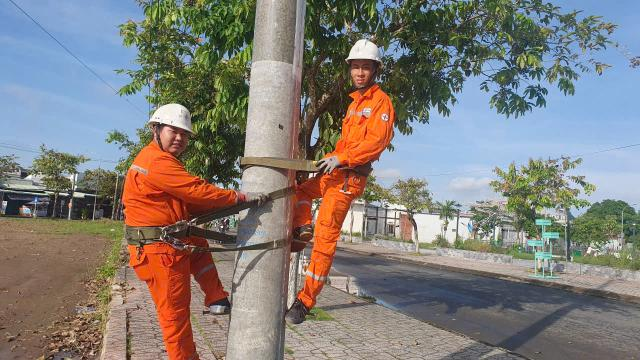gloves: (312, 148, 346, 178), (240, 184, 275, 207)
harness: (108, 213, 214, 260), (316, 150, 382, 186)
helmet: (339, 25, 394, 72), (140, 103, 204, 140)
shoes: (280, 288, 313, 330), (204, 284, 234, 320), (287, 221, 314, 258)
